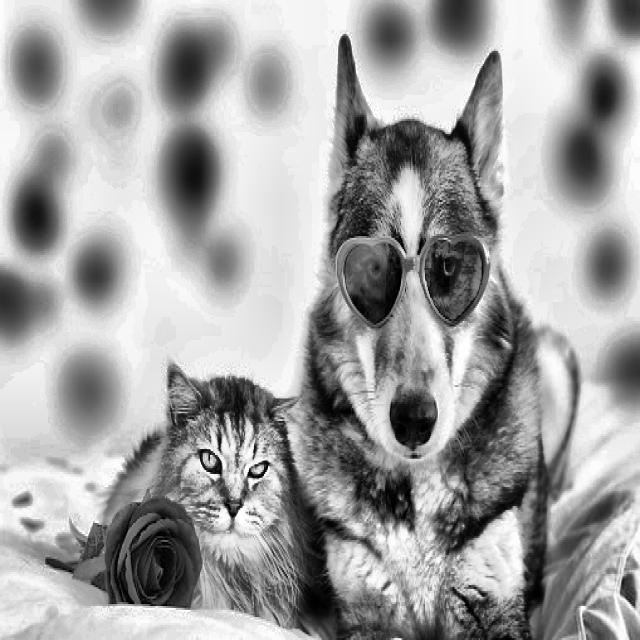husky: (315, 25, 529, 481)
